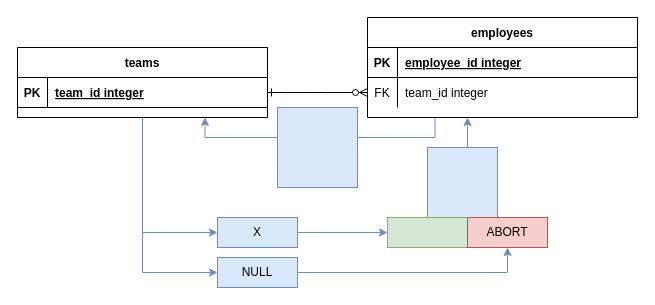
Image size: 655x305. Some labels were removed from this diagram. Each missing label, with the centre of its shape:
COMMIT: (x=427, y=232)
INSERT X: (x=462, y=182)
SELECT 1 WHERE X KEY SHARE: (x=317, y=147)
